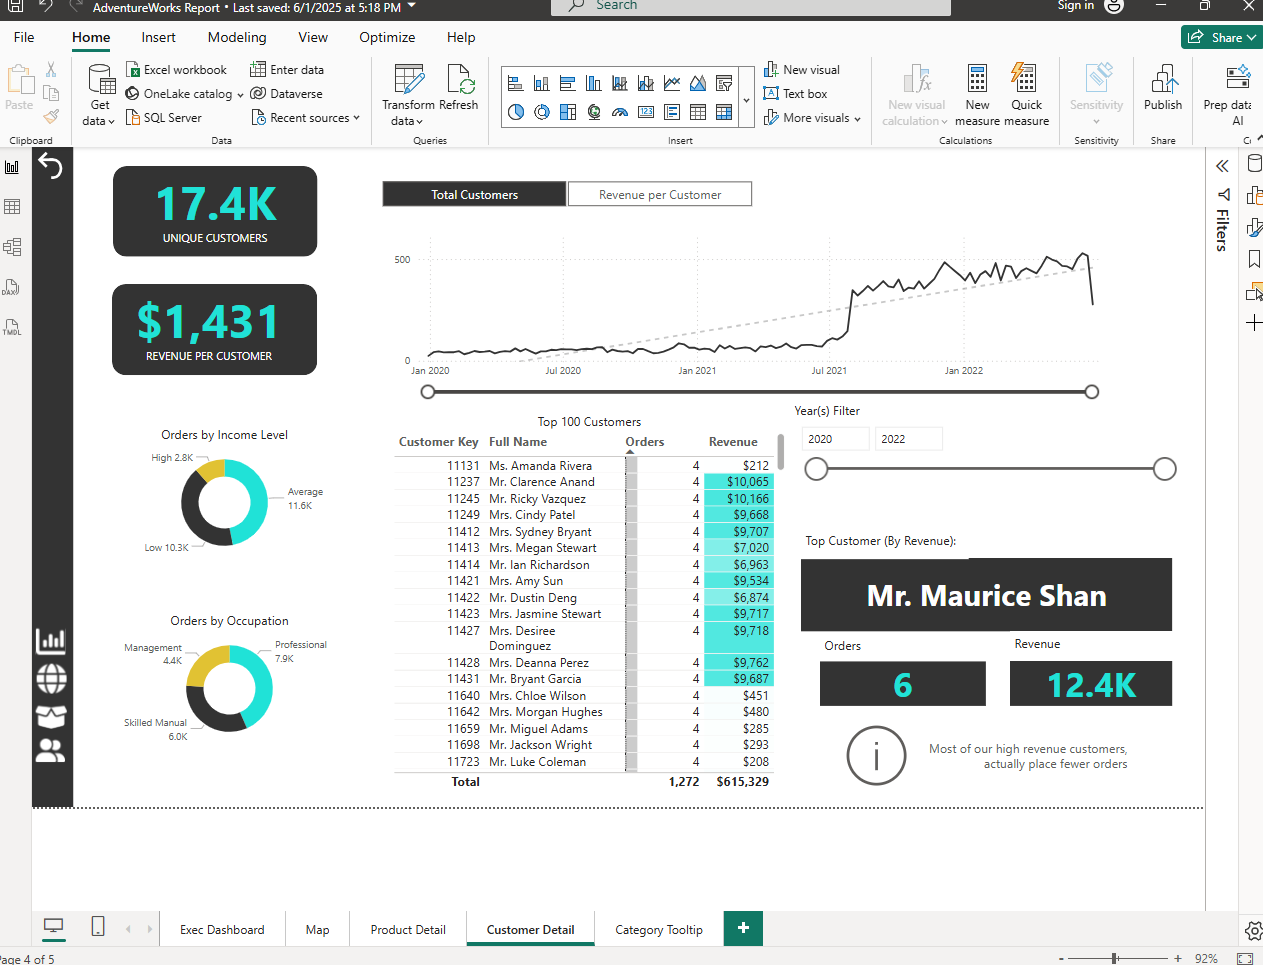

The page's visual inventory and layout, read from the dashboard file:
{"tool":"powerbi","page":{"name":"Customer Detail","canvas":[1280,720],"ordinal":3},"visuals":[{"type":"shape","box":[0,0,45,720.5],"z":0},{"type":"shape","box":[88.4,20.5,224.1,99.4],"z":1000},{"type":"actionButton","box":[0.2,519,44.7,40.7],"z":1000,"group":"g1"},{"type":"shape","box":[87.3,149.3,224.5,99.9],"z":2000},{"type":"actionButton","box":[1.4,559.7,46.1,40.7],"z":2000,"group":"g1"},{"type":"card","fields":{"Values":["Measure Table.Average Revenue per Customer"]},"box":[73.2,149.3,240,91.6],"z":3000},{"type":"actionButton","box":[0.2,600.4,44.7,42],"z":3000,"group":"g1"},{"type":"card","fields":{"Values":["Measure Table.Total Customers"]},"box":[80,20.6,240,91.6],"z":4000},{"type":"actionButton","box":[0,637.5,43.6,40.3],"z":4000,"group":"g1"},{"type":"lineChart","fields":{"Y":["Measure Table.Total Customers"],"Category":["Calendar Lookup.Date Hierarchy.Start of Year","Calendar Lookup.Date Hierarchy.Start of Month","Calendar Lookup.Date Hierarchy.Start of Week","Calendar Lookup.Date Hierarchy.Date"]},"box":[389.7,86.5,793.5,192.3],"z":5000},{"type":"donutChart","title":"Orders by Income Level","fields":{"Category":["Customer Lookup.Income Level"],"Y":["Measure Table.Total Orders"]},"box":[85.4,304.5,250,150],"z":6000},{"type":"donutChart","title":"Orders by Occupation","fields":{"Y":["Measure Table.Total Orders"],"Category":["Customer Lookup.Occupation"]},"box":[90.1,508,250,150],"z":7000},{"type":"tableEx","title":"Top 100 Customers","fields":{"Values":["Customer Lookup.CustomerKey","Customer Lookup.Customer Full Name (CC)","Measure Table.Total Orders","Measure Table.Total Revenue"]},"box":[389.7,290.3,437.4,415.5],"z":8000},{"type":"card","fields":{"Values":["Customer Lookup.Full Name (Customer Detail)"]},"box":[838.7,449,405.2,80],"z":9000},{"type":"card","fields":{"Values":["Measure Table.Total Orders (Customer Detail)"]},"box":[860,561.4,181.4,48.6],"z":10000},{"type":"card","fields":{"Values":["Measure Table.Total Revenue (Customer Detail)"]},"box":[1067.1,561.3,176.8,49],"z":11000},{"type":"textbox","box":[838.7,415.5,183.2,33.5],"z":12000},{"type":"textbox","box":[1067.1,528.6,182.9,31.4],"z":13000},{"type":"textbox","box":[860,530,182.9,31.4],"z":14000},{"type":"slicer","title":"Year(s) Filter","fields":{"Values":["Calendar Lookup.Year"]},"box":[827.1,278.7,429.7,100.6],"z":15000},{"type":"actionButton","box":[0,0,45.2,40],"z":16000},{"type":"actionButton","box":[880.7,623.4,318.8,82.1],"z":17000},{"type":"group","id":"g1","title":"Navigation buttons","box":[0,519,47.5,158.7],"z":18000},{"type":"slicer","fields":{"Values":["Customer Metric Selection .Customer Metric Selection "]},"box":[356.8,30.6,452.9,36],"z":19000}]}

Visuals, with their boxes on the page's 1280x720 design canvas (x1, y1, x2, y2). These are canvas units, not pixel positions in the 1263x965 screenshot, which may show the page scaled, cropped or inside an application window:
shape: (x1=0, y1=0, x2=45, y2=720)
shape: (x1=88, y1=20, x2=312, y2=120)
actionButton: (x1=0, y1=519, x2=45, y2=560)
shape: (x1=87, y1=149, x2=312, y2=249)
actionButton: (x1=1, y1=560, x2=48, y2=600)
card - Measure Table.Average Revenue per Customer: (x1=73, y1=149, x2=313, y2=241)
actionButton: (x1=0, y1=600, x2=45, y2=642)
card - Measure Table.Total Customers: (x1=80, y1=21, x2=320, y2=112)
actionButton: (x1=0, y1=638, x2=44, y2=678)
lineChart - Measure Table.Total Customers x Calendar Lookup.Date Hierarchy.Start of Year: (x1=390, y1=86, x2=1183, y2=279)
"Orders by Income Level" donutChart: (x1=85, y1=304, x2=335, y2=454)
"Orders by Occupation" donutChart: (x1=90, y1=508, x2=340, y2=658)
"Top 100 Customers" tableEx: (x1=390, y1=290, x2=827, y2=706)
card - Customer Lookup.Full Name (Customer Detail): (x1=839, y1=449, x2=1244, y2=529)
card - Measure Table.Total Orders (Customer Detail): (x1=860, y1=561, x2=1041, y2=610)
card - Measure Table.Total Revenue (Customer Detail): (x1=1067, y1=561, x2=1244, y2=610)
textbox: (x1=839, y1=416, x2=1022, y2=449)
textbox: (x1=1067, y1=529, x2=1250, y2=560)
textbox: (x1=860, y1=530, x2=1043, y2=561)
"Year(s) Filter" slicer: (x1=827, y1=279, x2=1257, y2=379)
actionButton: (x1=0, y1=0, x2=45, y2=40)
actionButton: (x1=881, y1=623, x2=1200, y2=706)
"Navigation buttons" group: (x1=0, y1=519, x2=48, y2=678)
slicer - Customer Metric Selection .Customer Metric Selection : (x1=357, y1=31, x2=810, y2=67)
